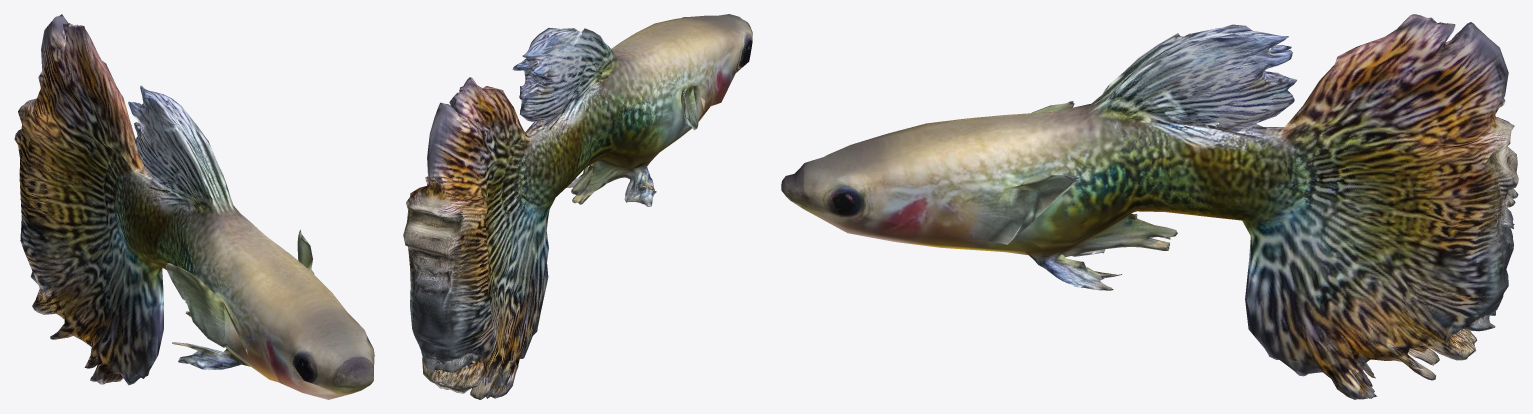
The model's file is strain-platinum_red_tiger.glb.
3 renders of one model, left to right at view 1: azimuth 30°, elevation 25°; view 2: azimuth 150°, elevation 25°; view 3: azimuth 270°, elevation 25°, orthographic. The views are drawn at different scales.
Visible parts, largest first — view 1: Mesh_0.001; view 2: Mesh_0.001; view 3: Mesh_0.001.
Boxes of the visible parts, x1,y1,x2,y2 form: Mesh_0.001: (14, 14, 374, 399); Mesh_0.001: (403, 14, 752, 399); Mesh_0.001: (781, 14, 1518, 399).
Size of the model in its own units: 0.00834 by 0.0198 by 0.0345.
2 materials, 2 textured.
